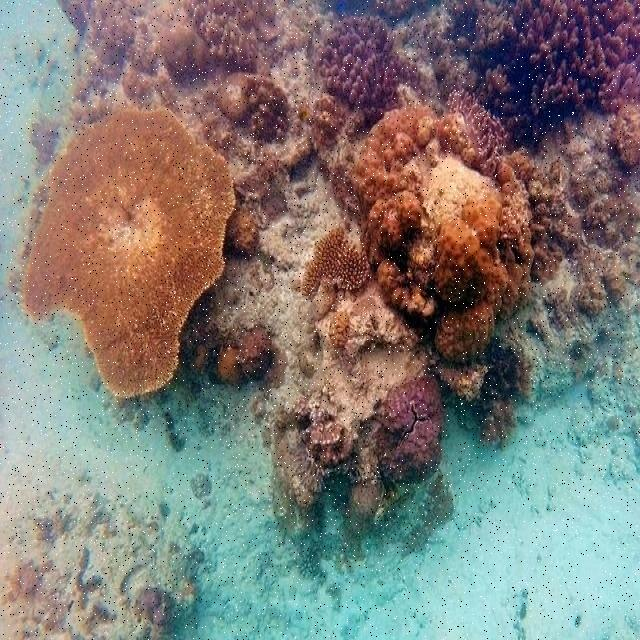reefs: (11, 0, 639, 572)
